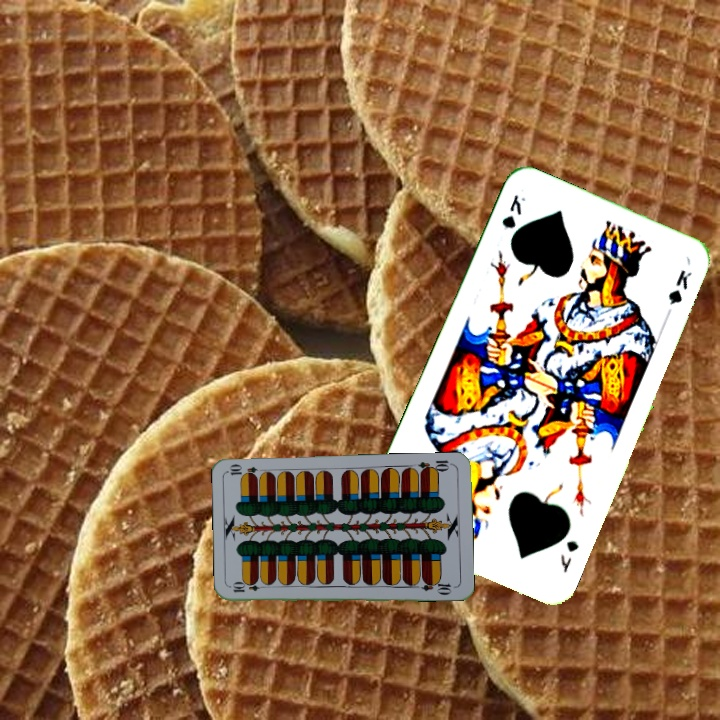E10: (415, 456, 455, 476), (229, 580, 269, 595)
GK: (497, 190, 528, 231), (556, 536, 582, 576)
